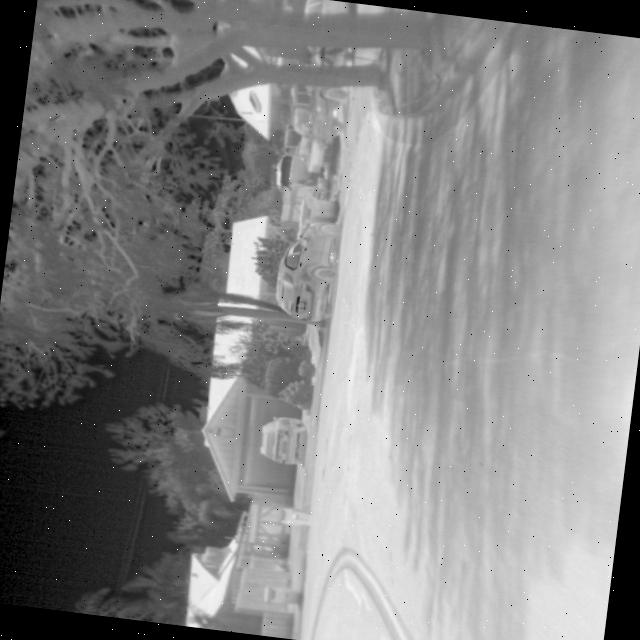Vehicle: (268, 214, 344, 326), (282, 77, 351, 144), (253, 410, 312, 470)
